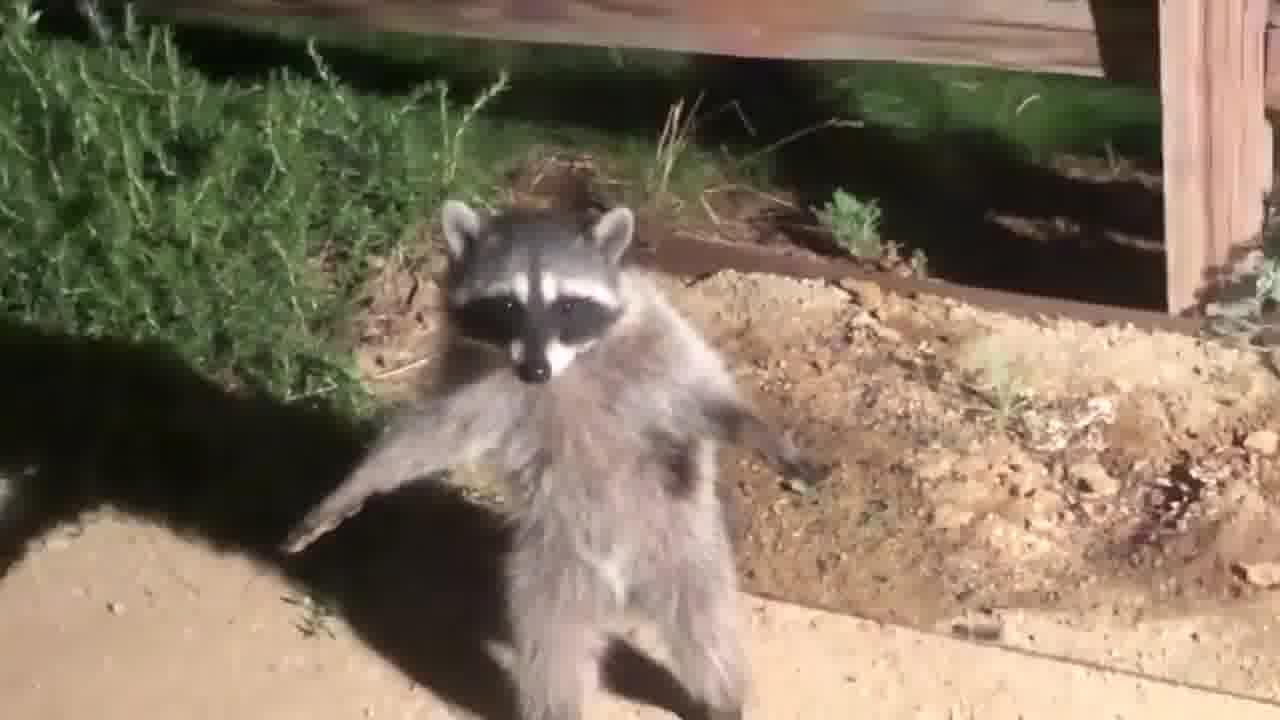raccoon: (275, 179, 847, 720)
